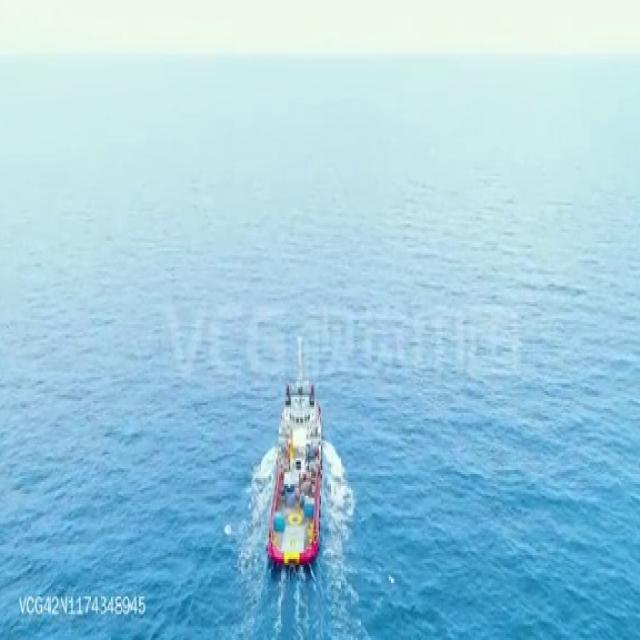fishing boat: (266, 330, 323, 562)
